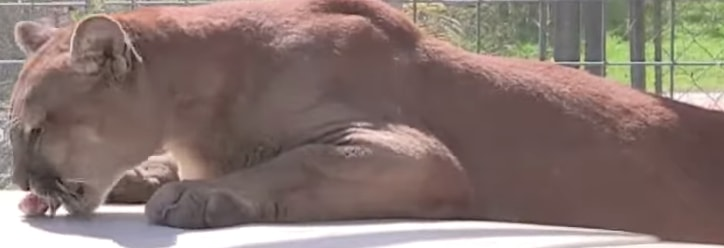Mountain Lion: (6, 2, 720, 241)
